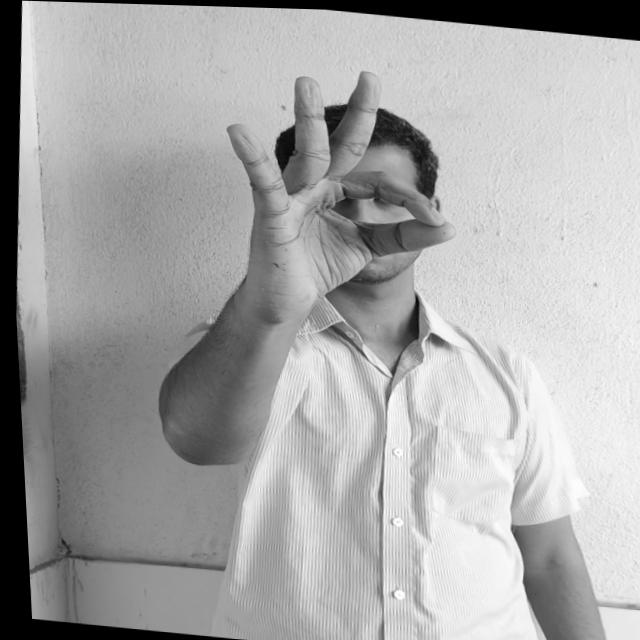Superb: (208, 51, 466, 308)
